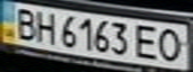1: (75, 16, 93, 52)
3: (109, 19, 133, 56)
6: (54, 12, 78, 48), (90, 17, 112, 54)
B: (9, 6, 39, 40)
E: (133, 22, 163, 61)
H: (30, 8, 60, 44)
O: (154, 26, 190, 63)
